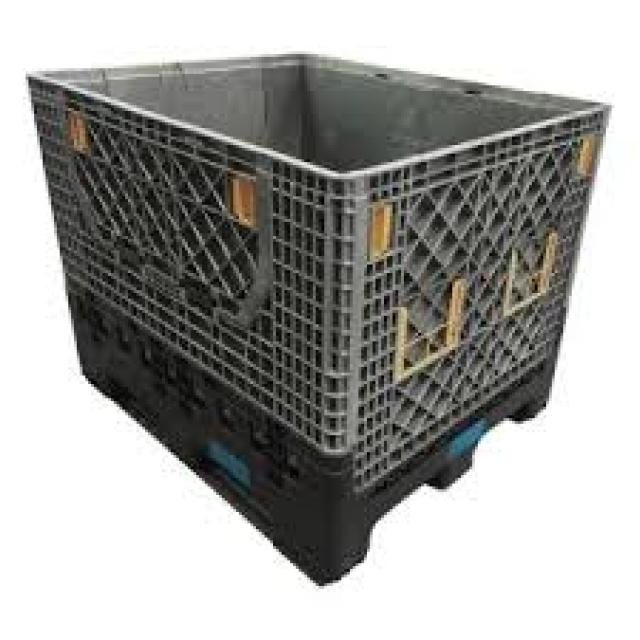basket: (0, 7, 612, 619)
